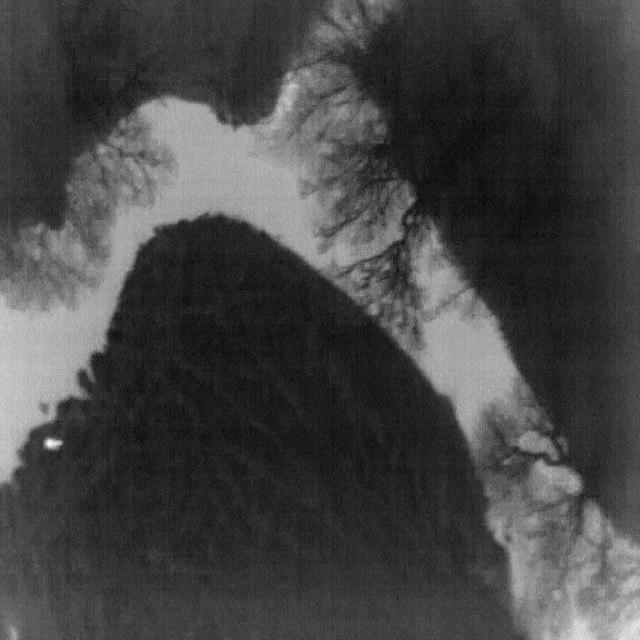deer: (42, 436, 64, 452), (7, 626, 20, 640)
